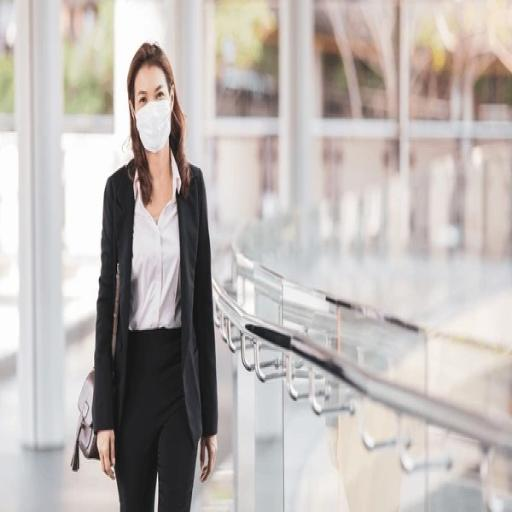mask: (133, 102, 180, 156)
